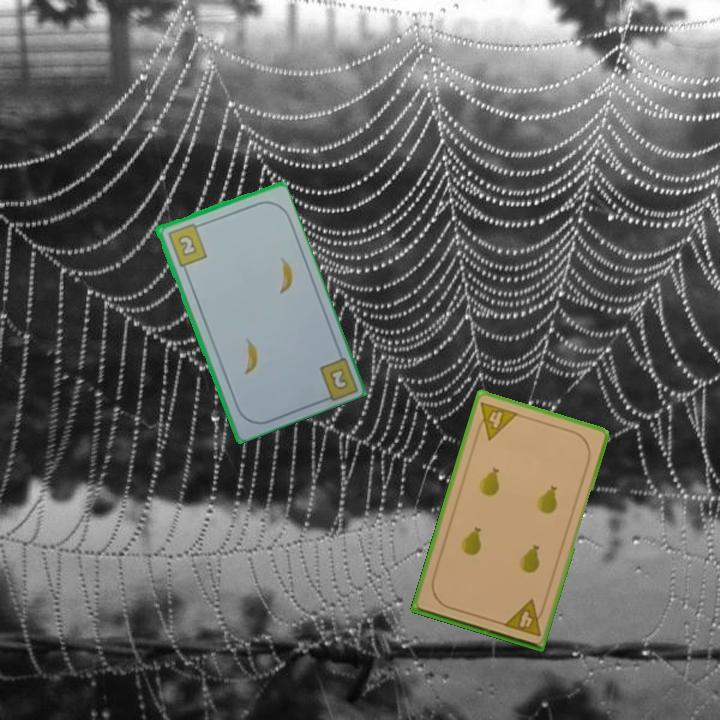2b: (164, 219, 209, 269), (325, 364, 351, 393)
4p: (471, 398, 521, 443), (500, 596, 548, 639)
